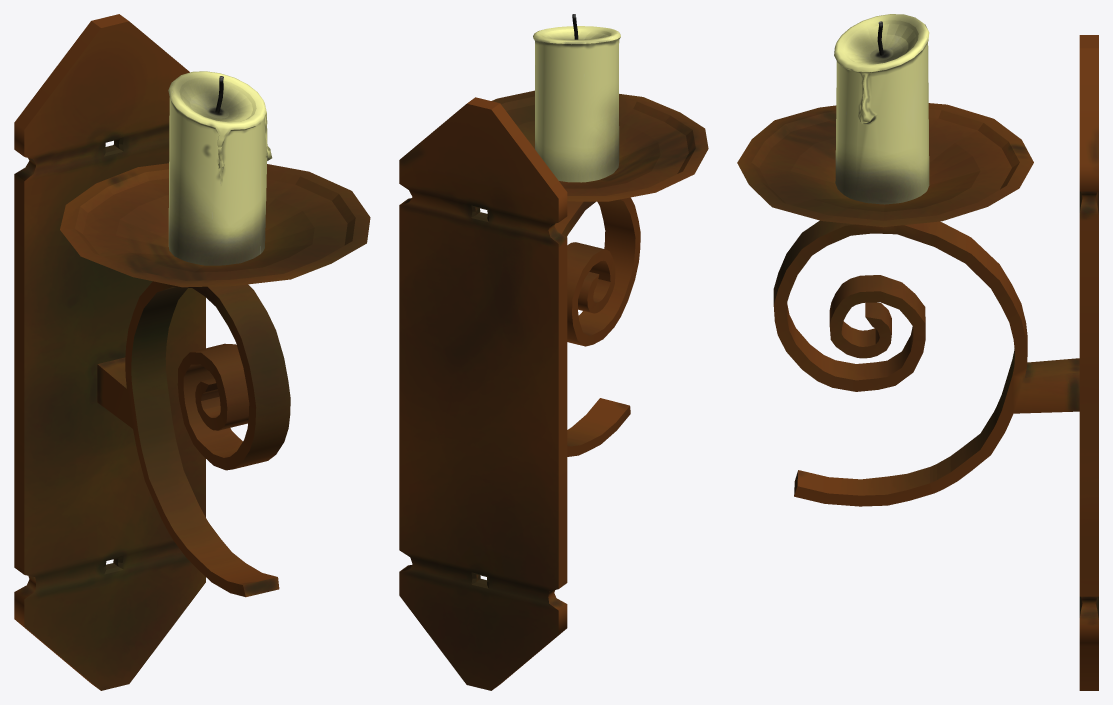
File: candle.fbx
The picture shows the model from 3 angles, left to right: view 1: azimuth 30°, elevation 25°; view 2: azimuth 150°, elevation 25°; view 3: azimuth 270°, elevation 25°; orthographic projection. The views are drawn at different scales.
Parts seen in each view (by area): view 1: pCube1, pCylinder1; view 2: pCube1, pCylinder1; view 3: pCube1, pCylinder1.
Boxes of the visible parts, x1,y1,x2,y2 form: pCube1: (14,14,370,690); pCylinder1: (168,71,272,265); pCube1: (399,90,708,690); pCylinder1: (533,14,620,182); pCube1: (737,35,1098,690); pCylinder1: (834,14,929,204).
Size of the model in its own units: 1.23 by 2.98 by 1.47.
2 materials, 2 textured.
